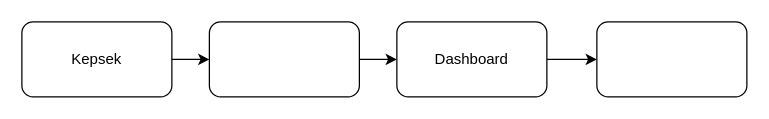
The diagram is 769 pixels wide and 119 high, and some of its shapes have lost their labels. The shapes that lost their labels are listed below. From the top down, each one's centre as x and y in pixels, then its label:
point 283,59: Login
point 671,59: Liat nilai guru, karyawan
